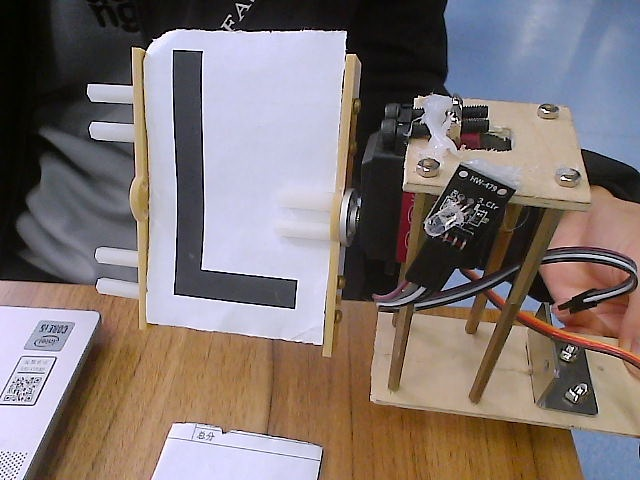L: (71, 19, 416, 377)
